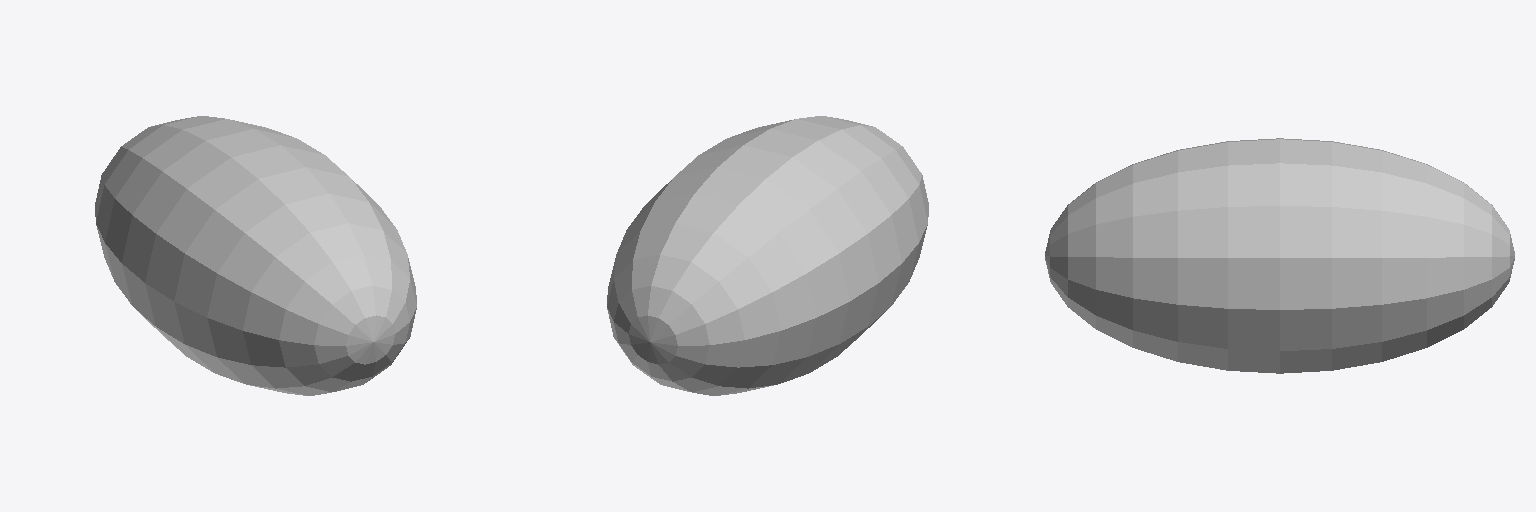
The model's file is OvalShield.obj.
3 renders of one model, left to right at view 1: azimuth 30°, elevation 25°; view 2: azimuth 150°, elevation 25°; view 3: azimuth 270°, elevation 25°, orthographic.
Parts seen in each view (by area): view 1: pSphere1; view 2: pSphere1; view 3: pSphere1.
Part boxes in pixels (bbox=[...]): pSphere1: bbox=[95, 116, 416, 395]; pSphere1: bbox=[607, 116, 928, 395]; pSphere1: bbox=[1045, 138, 1514, 373].
Size of the model in its own units: 2.16 by 1.95 by 3.97.